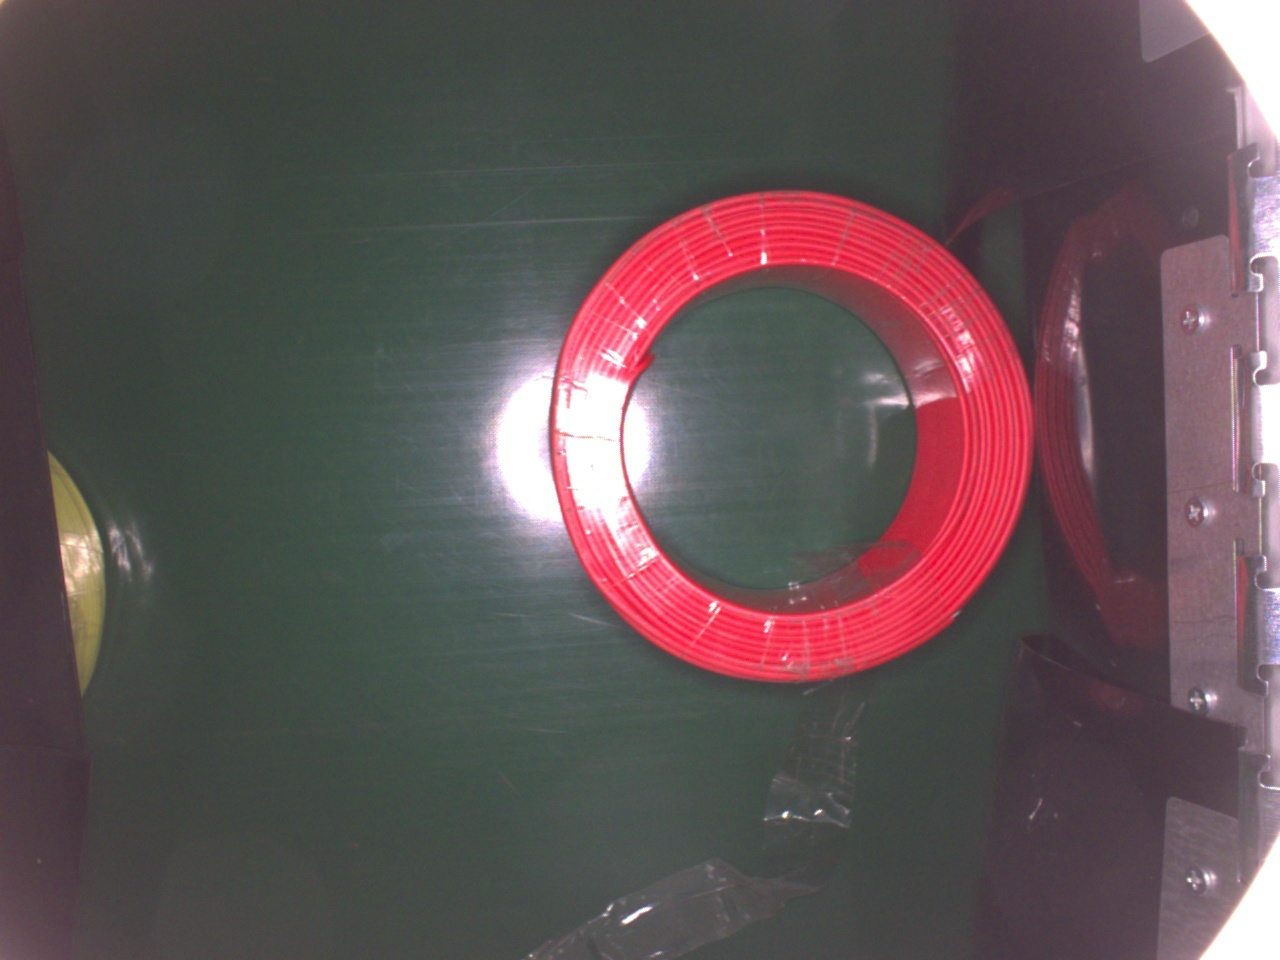red: (548, 187, 1036, 684)
